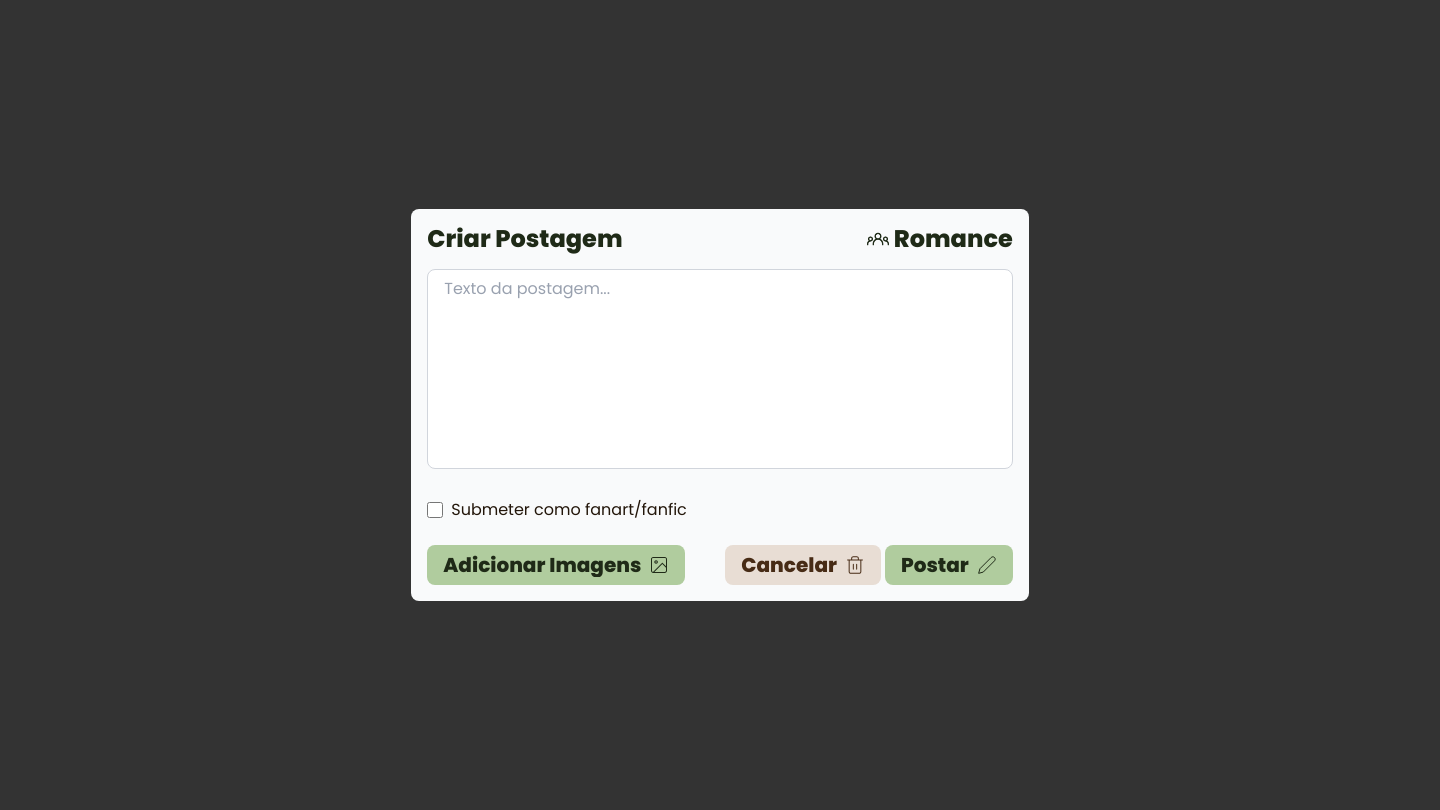
Test: CreatePostModal › Validação › deve mostrar erro quando tentar postar sem conteúdo
This screenshot has width=1440, height=810.
Click the button "Postar": (949, 565) top-left (885, 545), bottom-right (1013, 585)
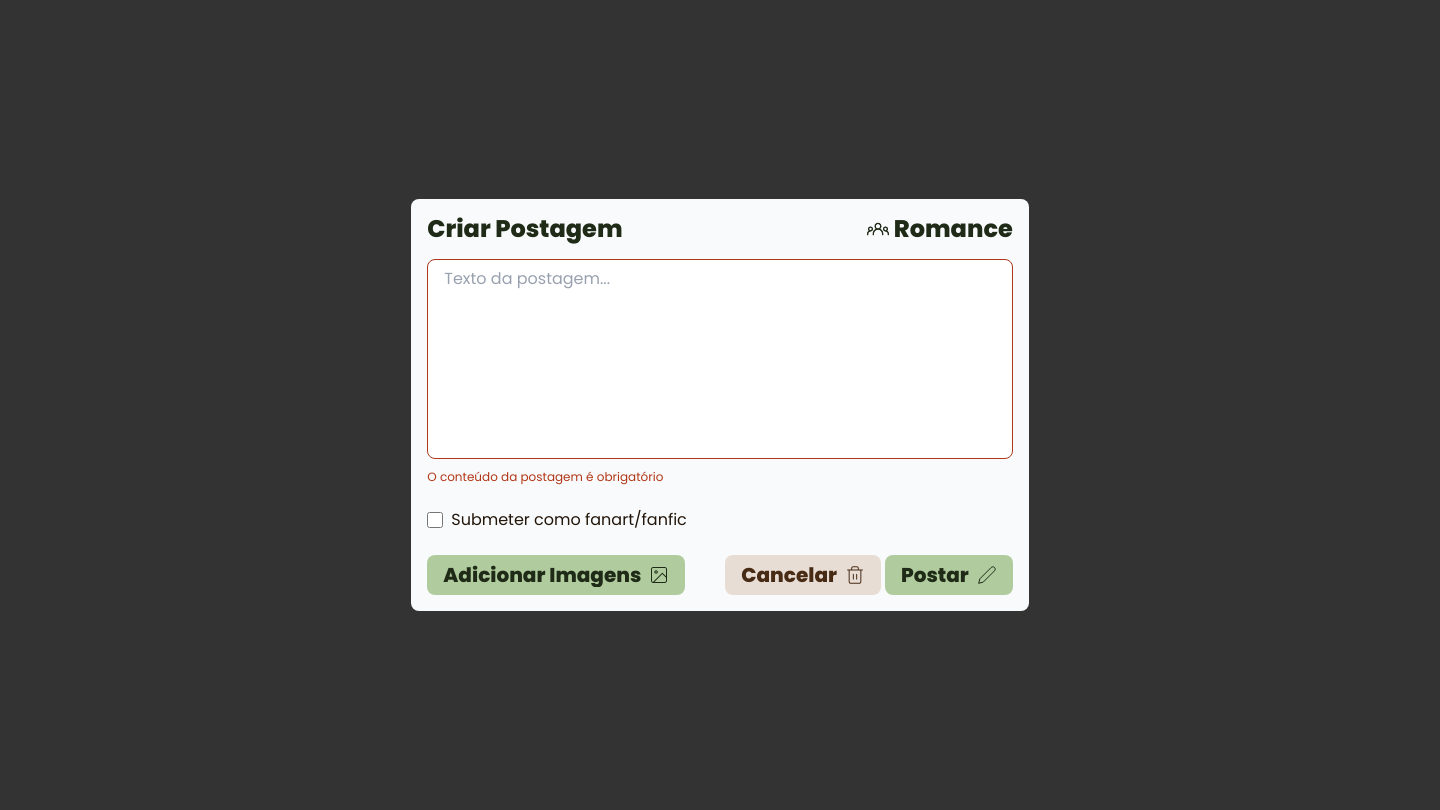
Expected: the text "O conteúdo da postagem é obrigatório" is shown, top-left (427, 468), bottom-right (663, 485)
